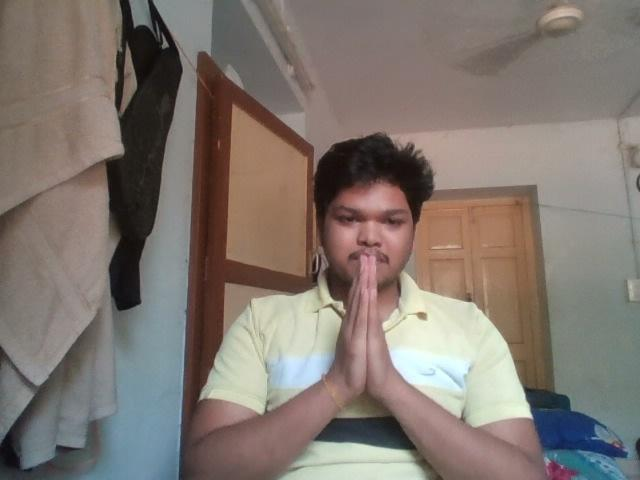please: (332, 248, 407, 417)
